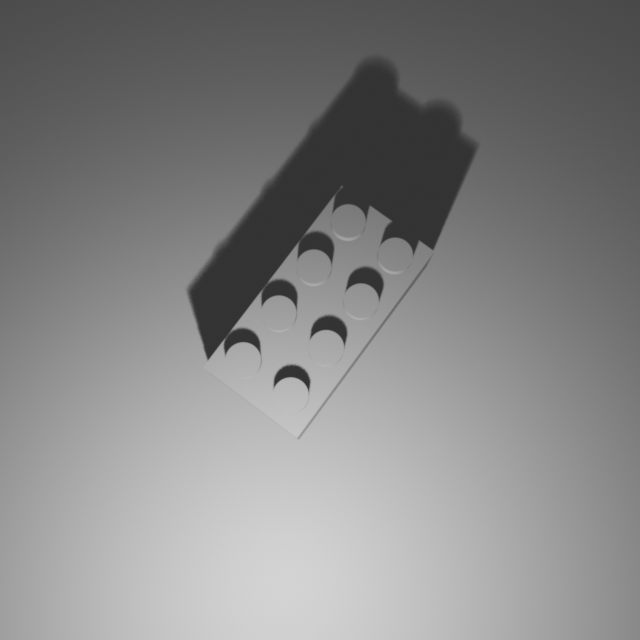lego_2x4: (201, 182, 436, 440)
